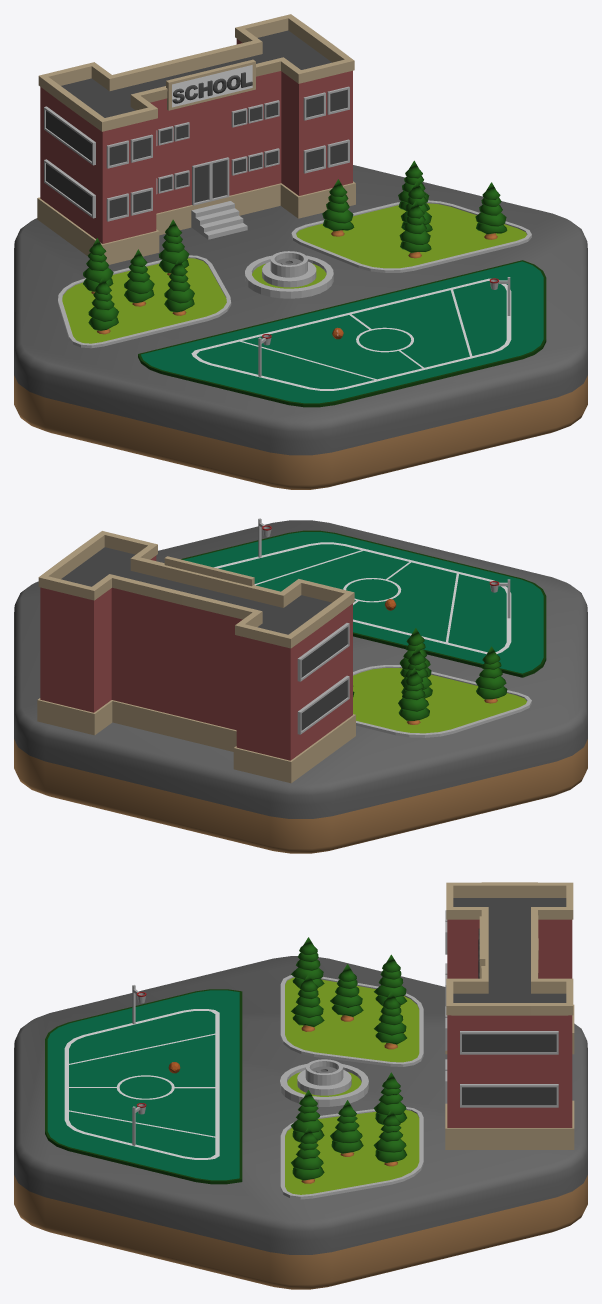
The model's file is Meta 2.fbx.
The picture shows the model from 3 angles, top to bottom: view 1: azimuth 30°, elevation 25°; view 2: azimuth 150°, elevation 25°; view 3: azimuth 270°, elevation 25°; orthographic projection.
Visible parts, largest first — view 1: Ground.002, Plane.006, Ground.003, Ground.009; view 2: Ground.002, Plane.006, Ground.003, Ground.009; view 3: Ground.002, Plane.006, Ground.003, Ground.009.
Part boxes in pixels (x1,y1,x2,y2): Ground.002: (14, 165, 587, 489); Plane.006: (37, 14, 355, 264); Ground.003: (138, 260, 546, 407); Ground.009: (58, 160, 531, 348); Ground.002: (14, 520, 587, 853); Plane.006: (37, 531, 355, 783); Ground.003: (181, 518, 546, 677); Ground.009: (353, 628, 531, 737); Ground.002: (14, 956, 587, 1289); Plane.006: (445, 882, 574, 1149); Ground.003: (45, 985, 242, 1184); Ground.009: (280, 937, 423, 1199).
Bounding box in the file's own units: 642 × 245 × 576.
